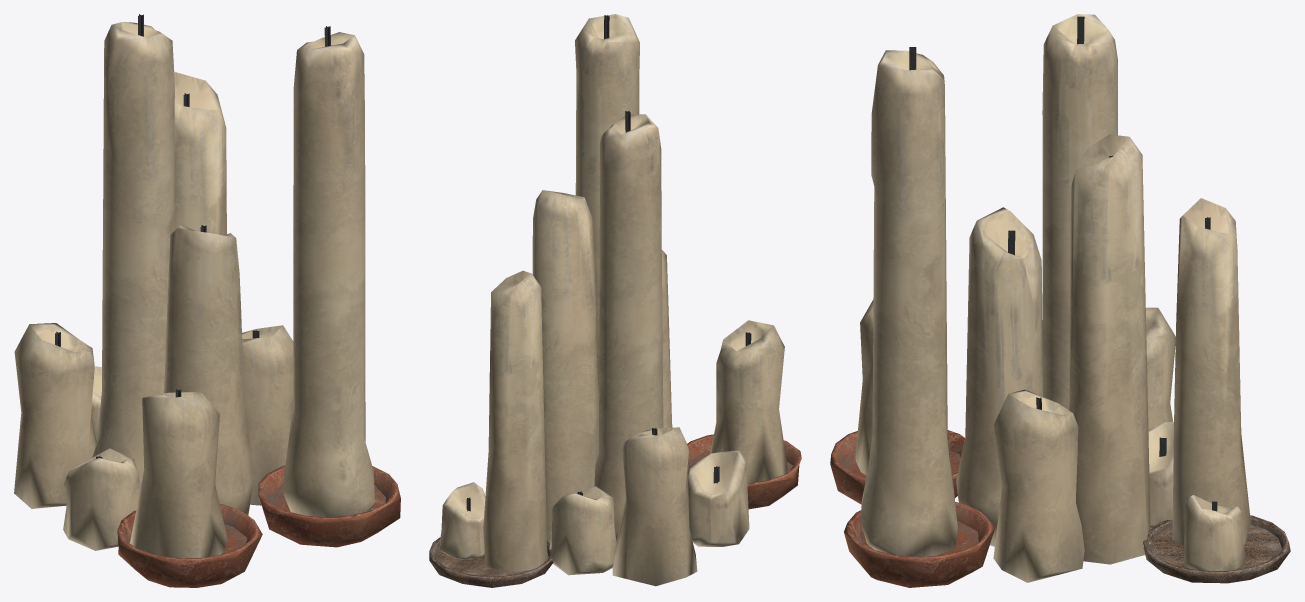
The model's file is SM_CandleCluster_01a.fbx.
The picture shows the model from 3 angles, left to right: view 1: azimuth 30°, elevation 25°; view 2: azimuth 150°, elevation 25°; view 3: azimuth 270°, elevation 25°; orthographic projection. The views are drawn at different scales.
Parts seen in each view (by area): view 1: SM_CandleCluster_01a_LOD0; view 2: SM_CandleCluster_01a_LOD0; view 3: SM_CandleCluster_01a_LOD0.
Boxes of the visible parts, left/top/right/bottom form: SM_CandleCluster_01a_LOD0: left=14, top=14, right=400, bottom=587; SM_CandleCluster_01a_LOD0: left=429, top=14, right=801, bottom=587; SM_CandleCluster_01a_LOD0: left=830, top=14, right=1290, bottom=587.
Size of the model in its own units: 38.65 by 54.22 by 67.69.
1 material, 1 textured.
